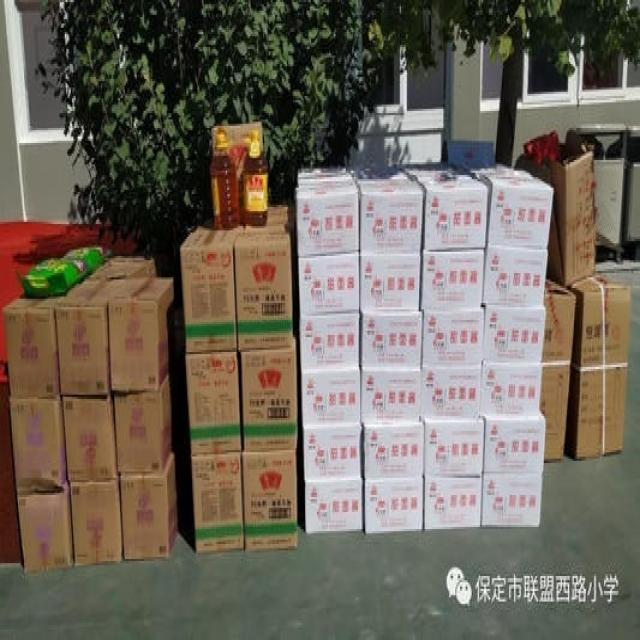Carton: (298, 160, 549, 531), (6, 279, 180, 570), (180, 222, 295, 550)
